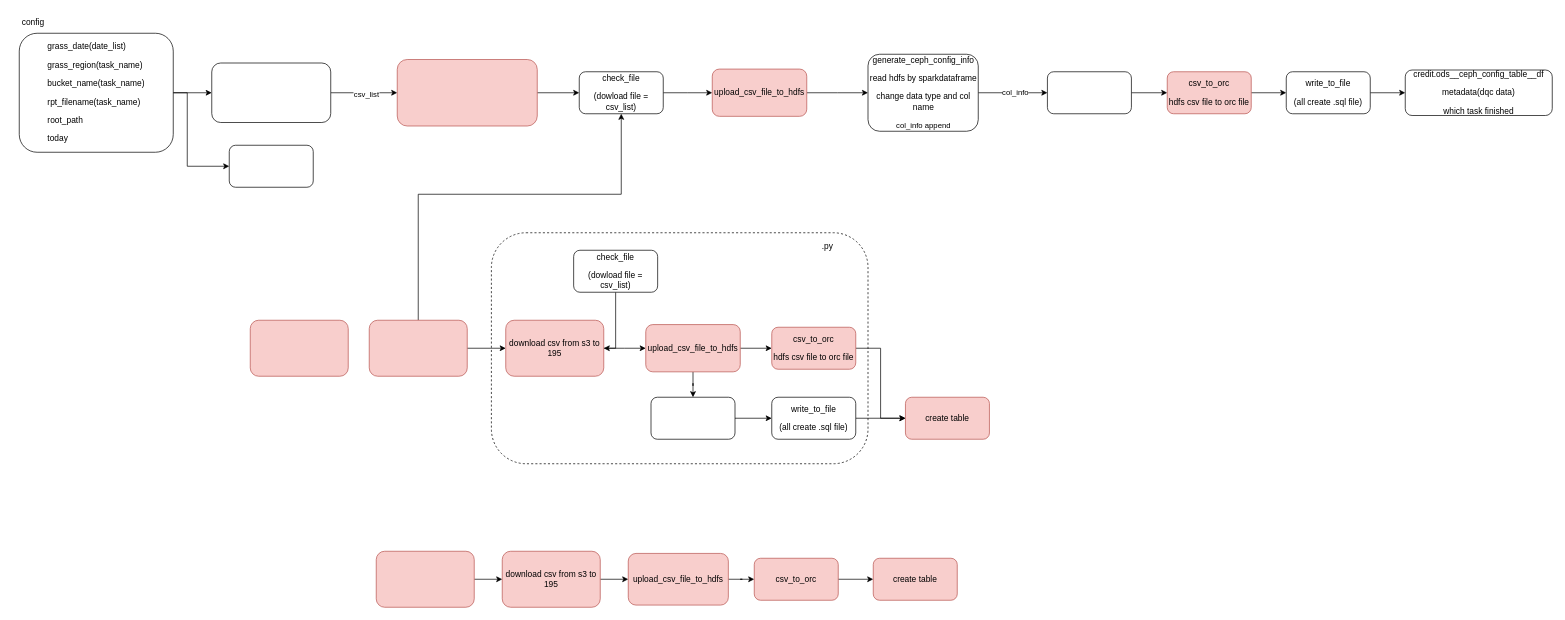
Image size: 1565x620. Some labels were removed from this diagram. The box of each missing label's shape, as (x1, y1, x2, y2) in pixels:
api get file message: (376, 551, 474, 607)
api get file message 轮巡（看s3的目录） （配时间）: (369, 320, 467, 376)
config ？（增减 重要点）: (250, 320, 348, 376)
create table info: (650, 397, 735, 439)
get_create_table create .sql file: (1047, 71, 1131, 114)
get_file_to_spark_server download csv from s3 to 195: (397, 59, 537, 126)
get_s3_csv_list (查看file是否存在；对应 日期和业务 ) 获取s3上对应的文件名: (211, 62, 331, 122)
get_s3_csv_list_by_bz: (229, 145, 313, 187)
